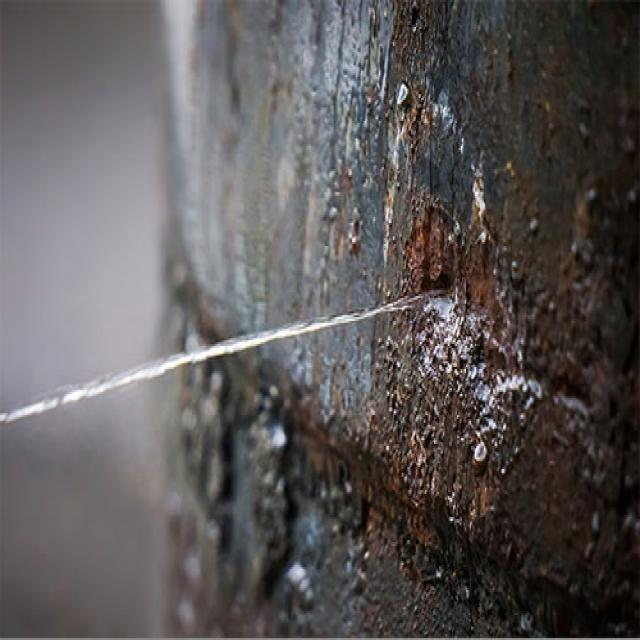Corrosion: (390, 191, 464, 296), (385, 297, 465, 360)
